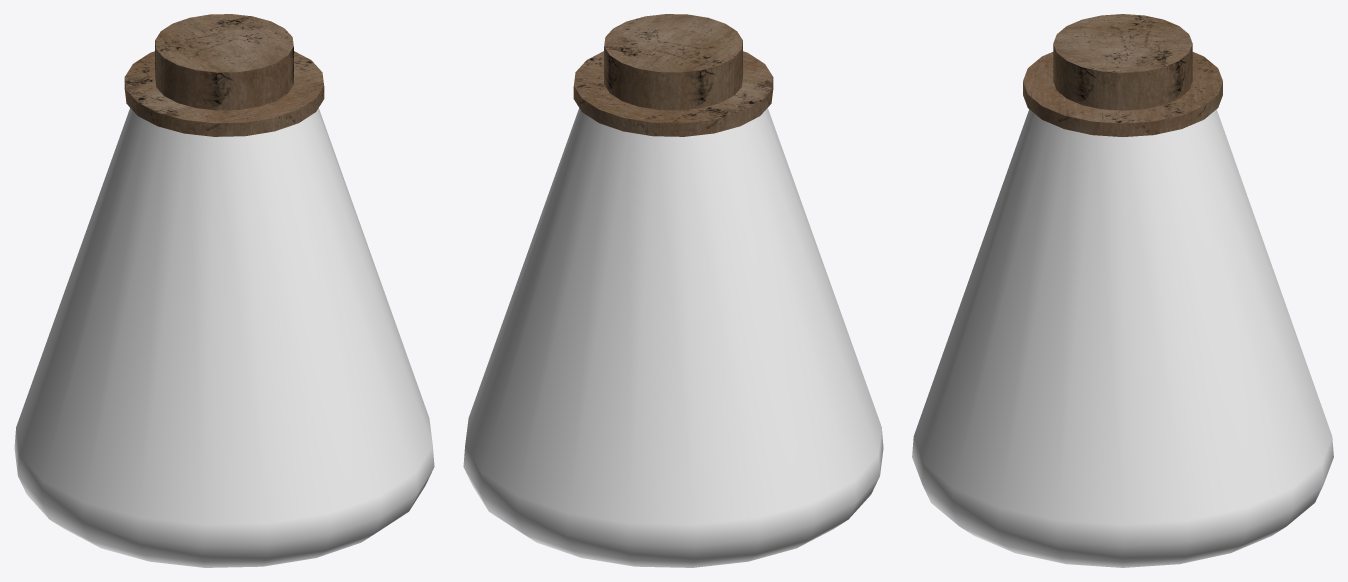
File: Health_Potion_Final.fbx
3 renders of one model, left to right at view 1: azimuth 30°, elevation 25°; view 2: azimuth 150°, elevation 25°; view 3: azimuth 270°, elevation 25°, orthographic.
Parts seen in each view (by area): view 1: pasted__pCylinder1; view 2: pasted__pCylinder1; view 3: pasted__pCylinder1.
Boxes of the visible parts, x1=… form: pasted__pCylinder1: x1=14, y1=14, x2=434, y2=567; pasted__pCylinder1: x1=463, y1=14, x2=883, y2=567; pasted__pCylinder1: x1=912, y1=14, x2=1333, y2=567.
Bounding box in the file's own units: 4.51 × 5.33 × 4.51.
4 materials, 1 textured.
